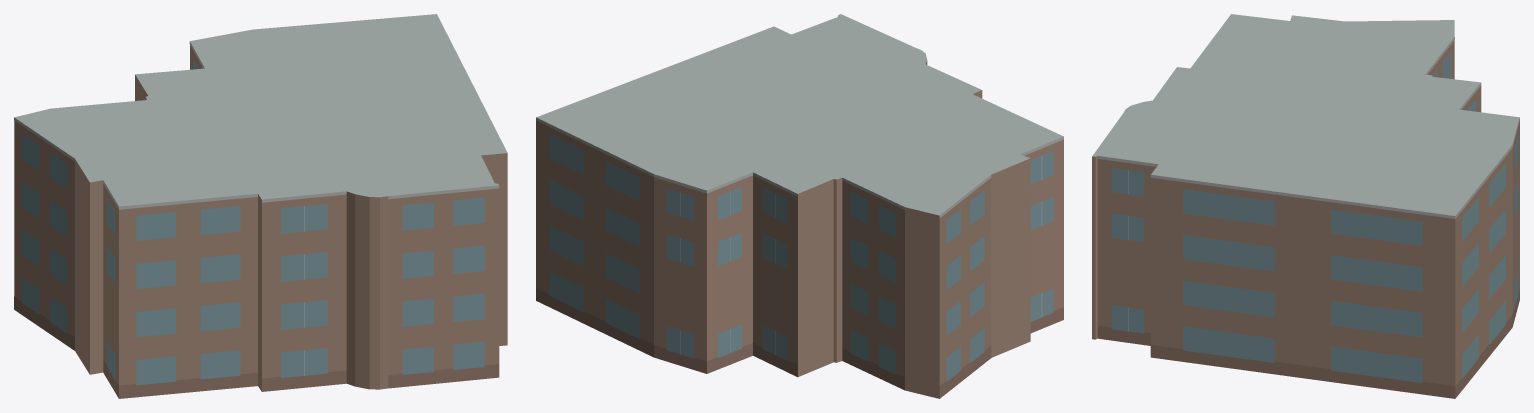
File: survey-upis-32469649.glb
The picture shows the model from 3 angles, left to right: view 1: azimuth 30°, elevation 25°; view 2: azimuth 150°, elevation 25°; view 3: azimuth 270°, elevation 25°; orthographic projection. The views are drawn at different scales.
Visible parts, largest first — view 1: survey-upis-32469649.tmp; view 2: survey-upis-32469649.tmp; view 3: survey-upis-32469649.tmp.
Part boxes in pixels (x1,y1,x2,y2): survey-upis-32469649.tmp: [14, 14, 507, 398]; survey-upis-32469649.tmp: [536, 14, 1063, 398]; survey-upis-32469649.tmp: [1092, 14, 1519, 398].
Size of the model in its own units: 35.1 by 14.8 by 31.39.
